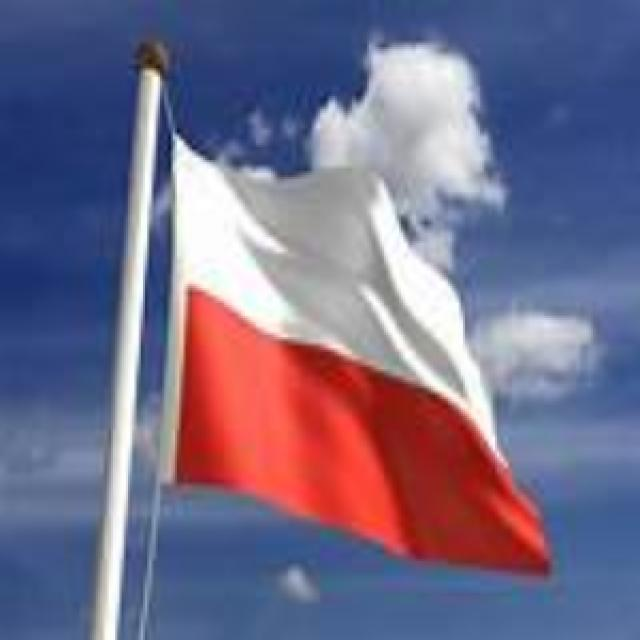poland: (130, 82, 586, 625)
